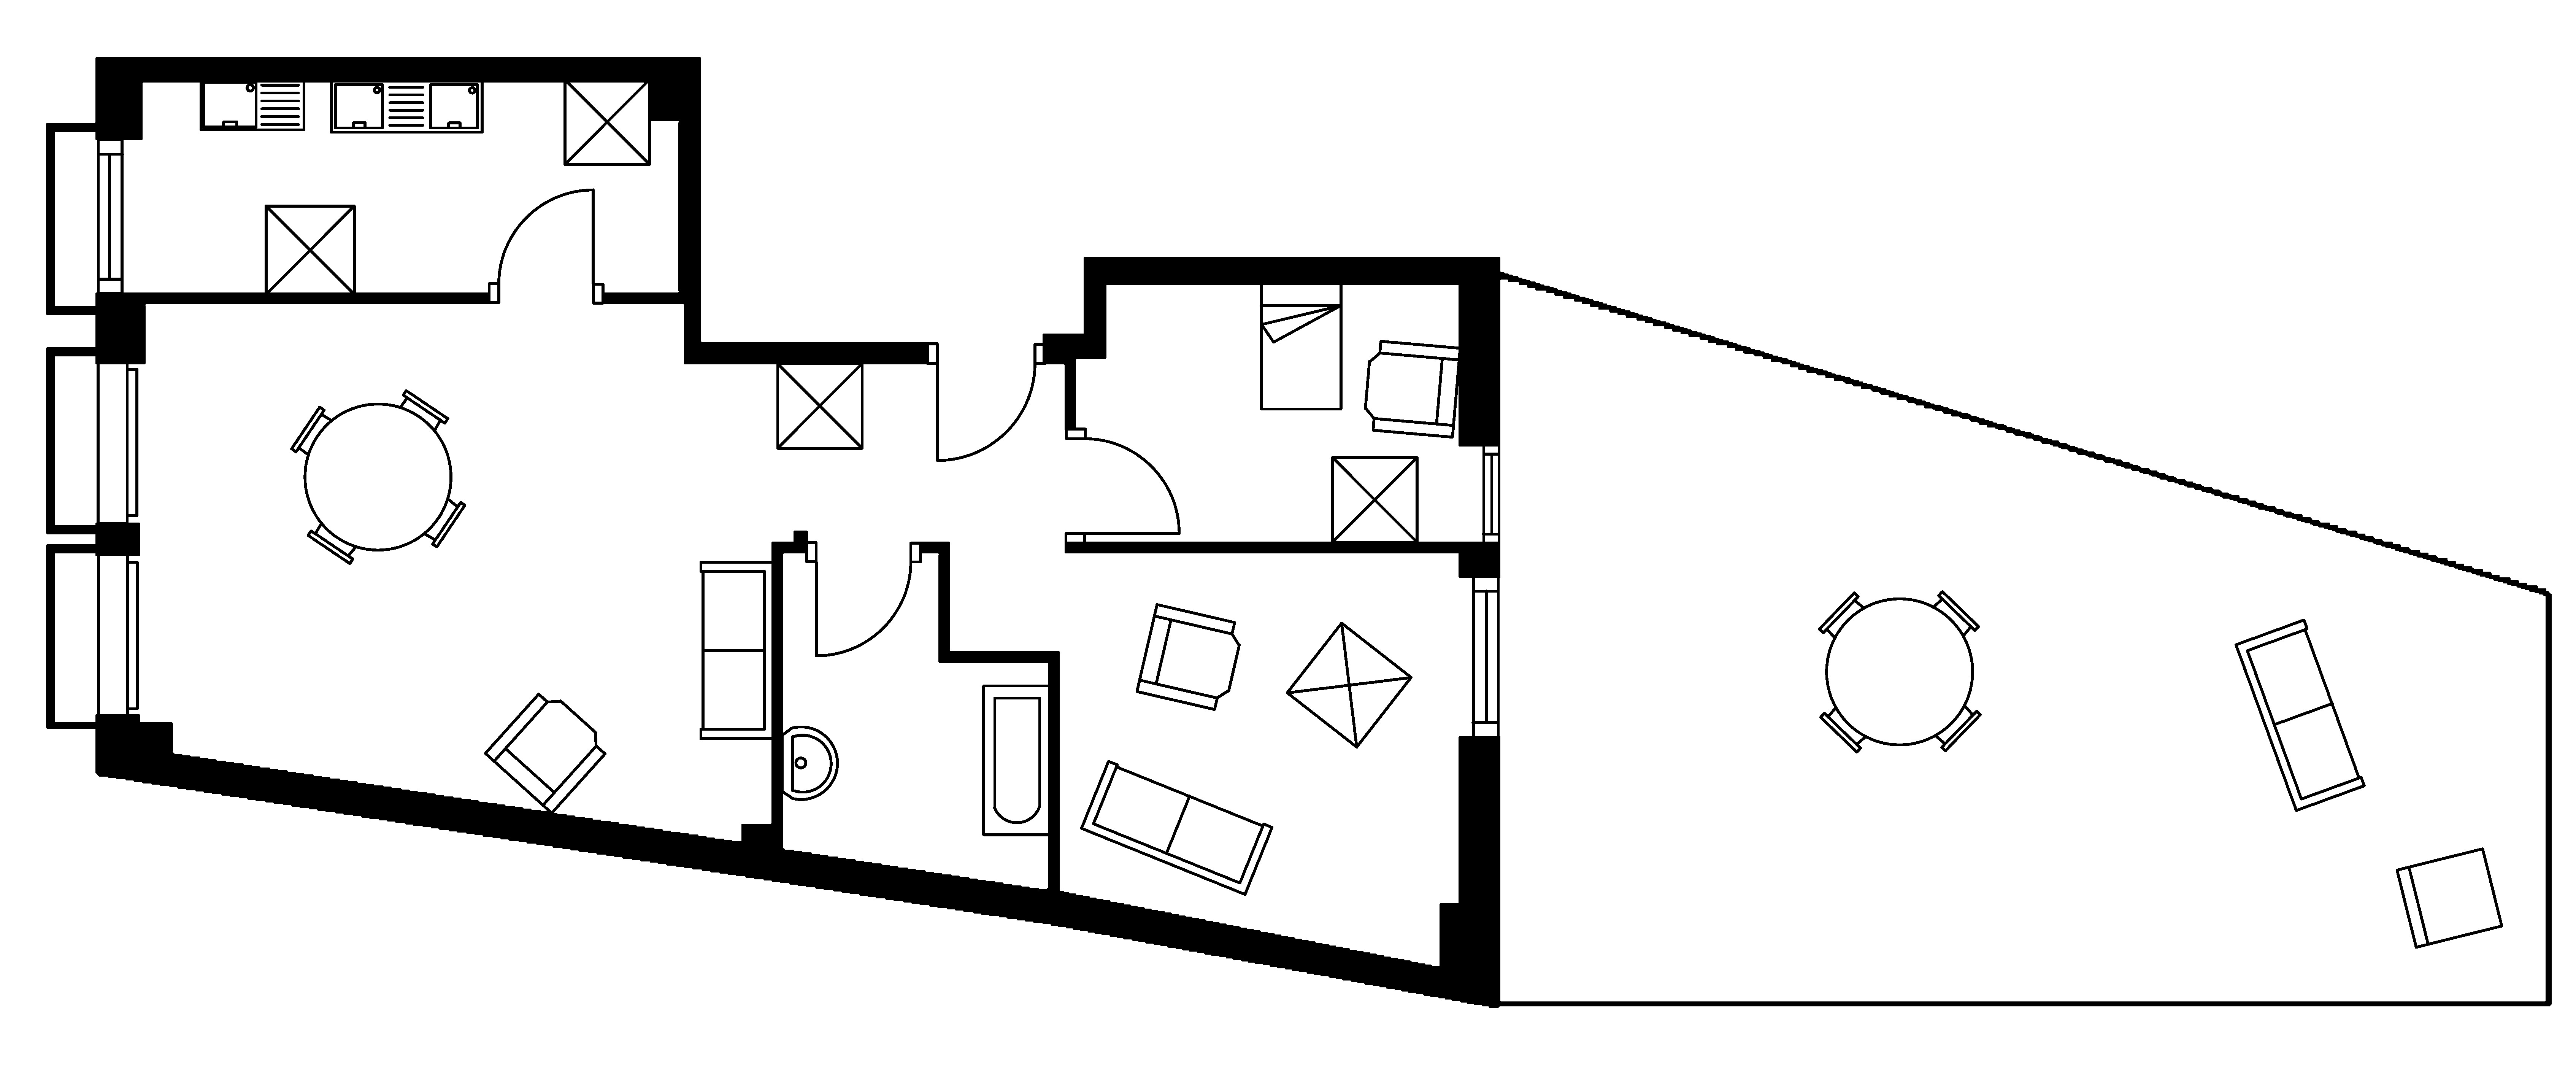armchair: (483, 692, 606, 814), (1135, 602, 1240, 710), (1364, 339, 1462, 439)
bed: (1258, 281, 1342, 411)
coffee_table: (1285, 622, 1413, 748), (264, 204, 356, 296), (562, 77, 651, 166), (775, 362, 864, 451), (1331, 456, 1418, 544)
large_sofa: (1079, 760, 1273, 896), (2234, 618, 2366, 812), (698, 561, 774, 740)
round_table: (289, 388, 467, 566), (1817, 589, 1981, 753)
sink: (199, 77, 306, 132)
small_sink: (780, 725, 838, 801)
small_sofa: (2395, 847, 2504, 949)
tub: (981, 684, 1051, 837)
twin_sink: (329, 77, 483, 133)
